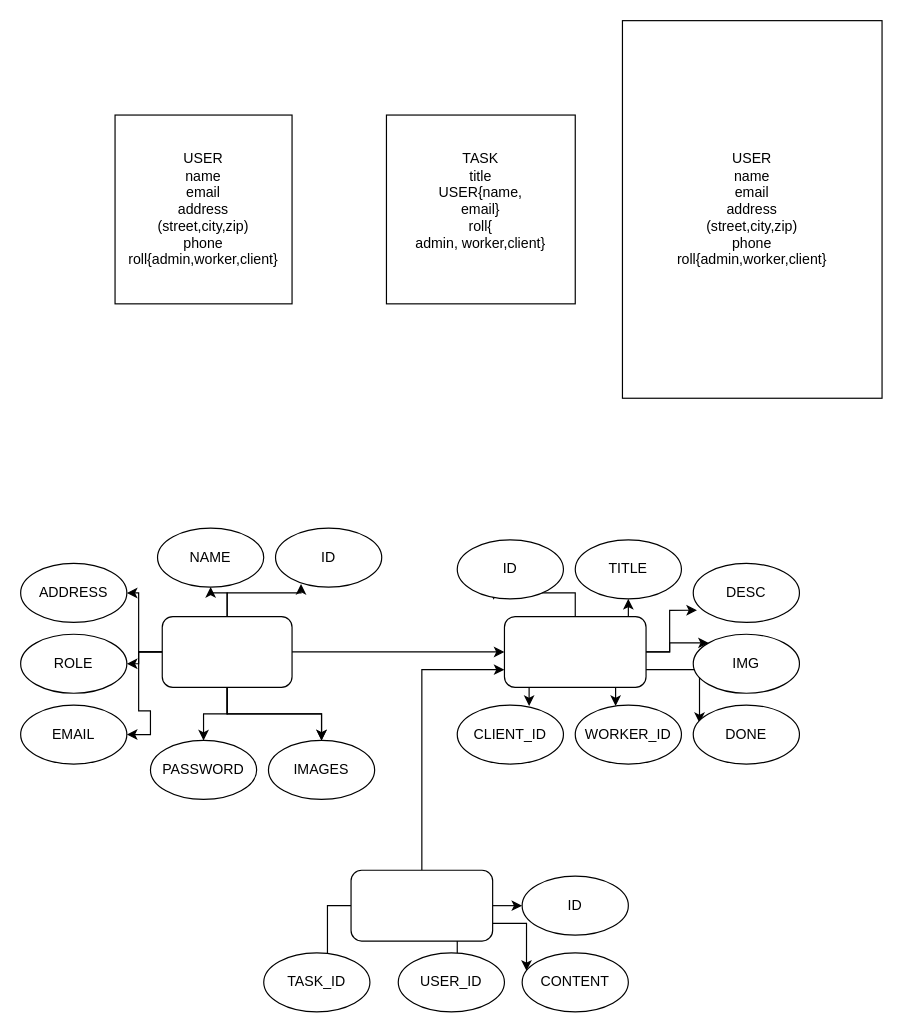
This 903x1033 diagram has some shape labels left out. The centre of each missing label's shape, as x and y in pixels:
MESSAGE: the point at 421,905
TASK: the point at 574,651
USER: the point at 226,651
